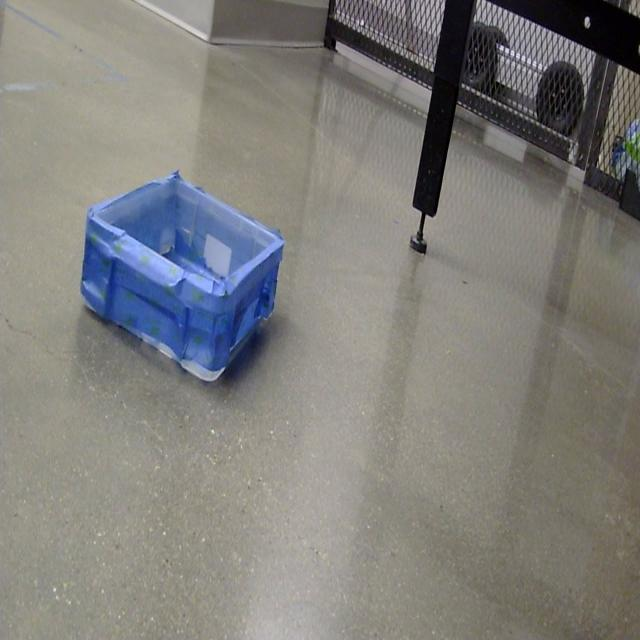bucket: (80, 172, 285, 386)
